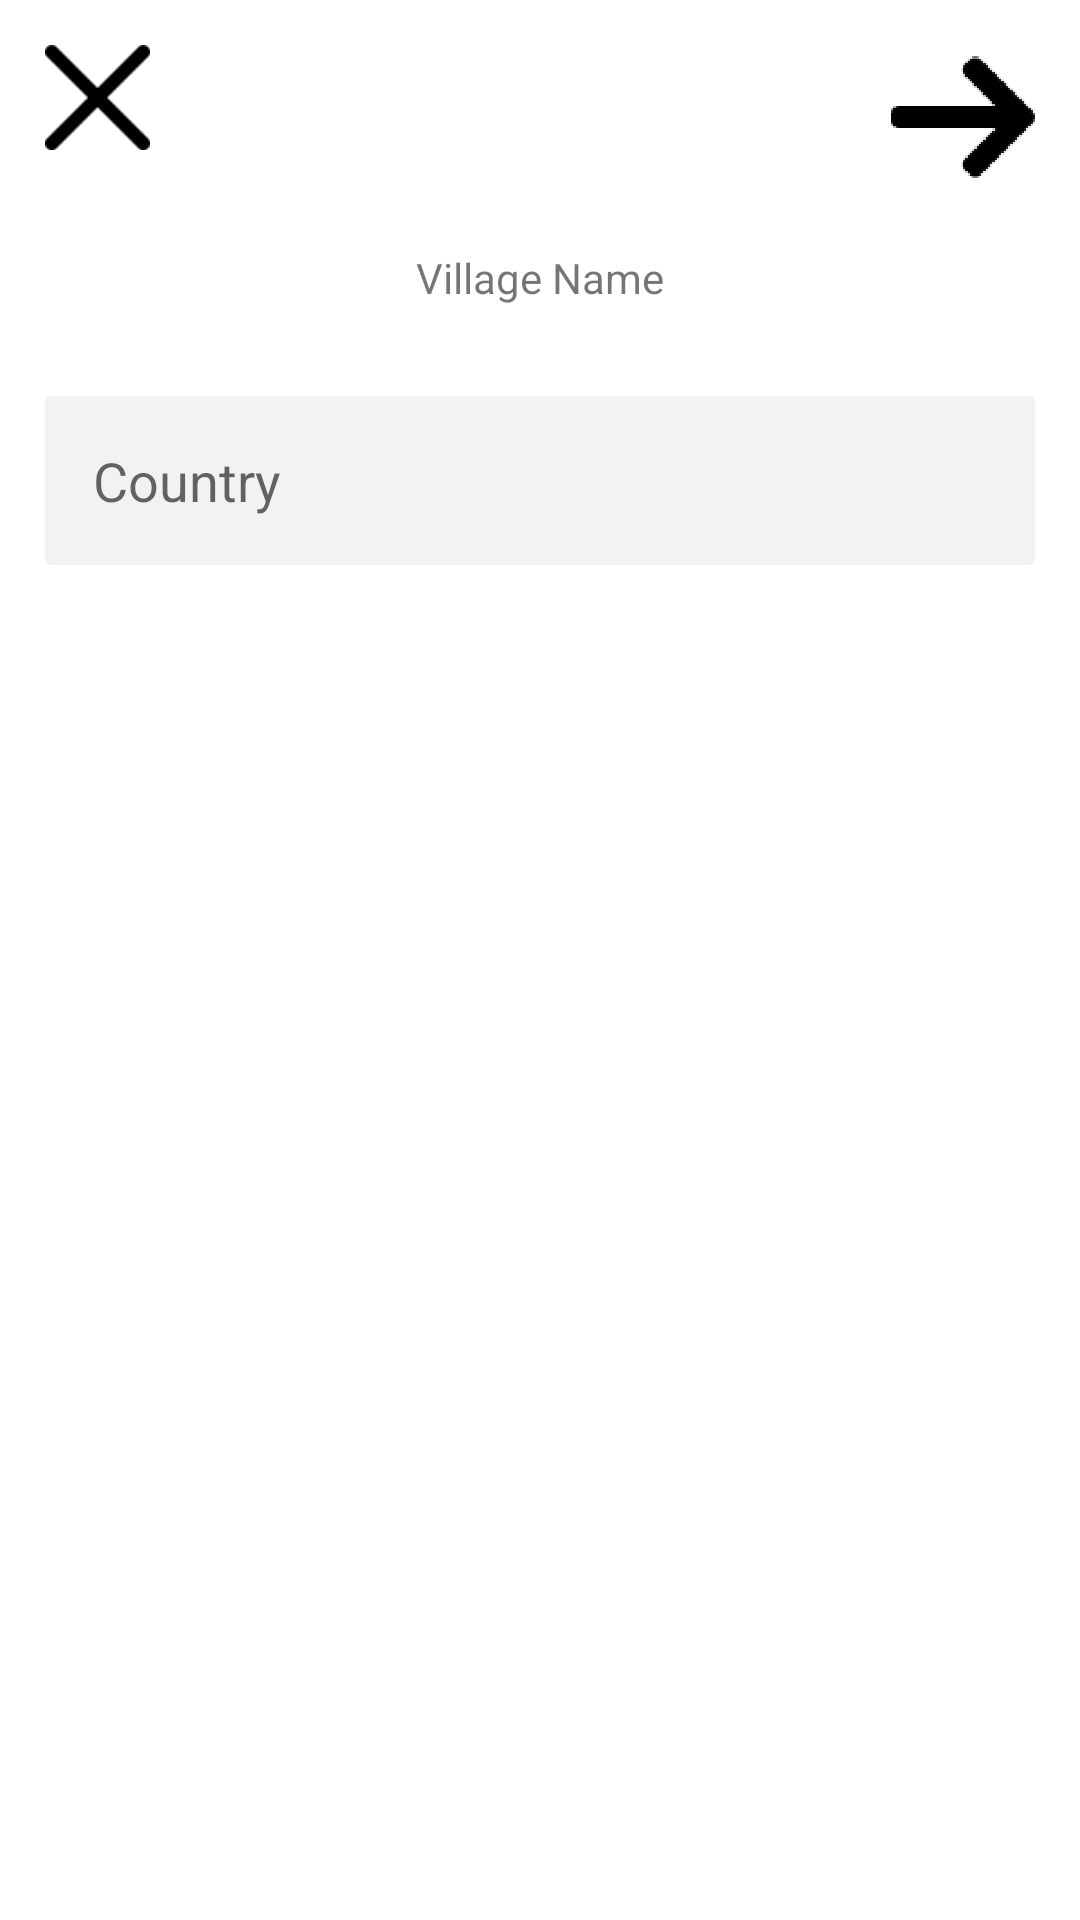

Locate icon controls on the screen. Image size 1080px x 1920px, boxes as {"x1": x1, "y1": y1, "x2": x2, "y2": y2}.
close: {"x1": 45, "y1": 45, "x2": 150, "y2": 150}
right arrow: {"x1": 891, "y1": 56, "x2": 1035, "y2": 178}
